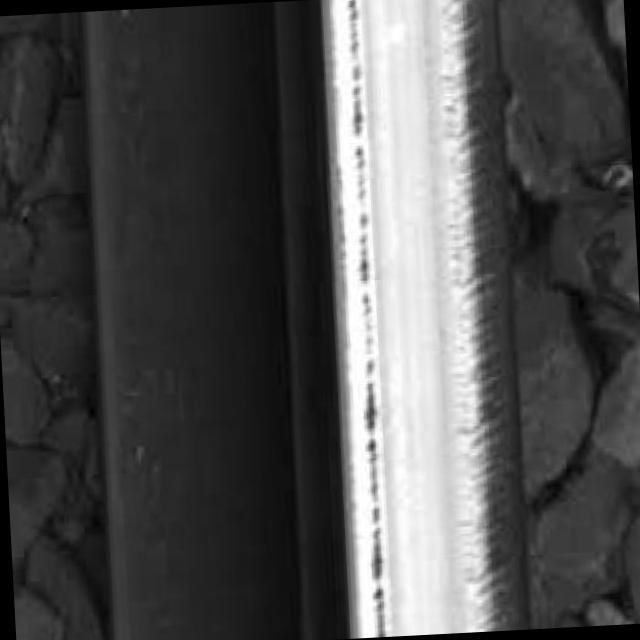defective: (263, 0, 547, 640)
